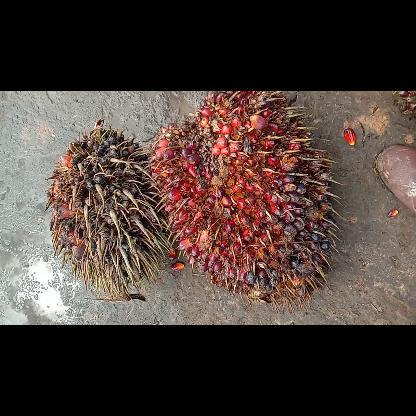TBS abnormal: (48, 120, 172, 304)
TBS masak: (140, 90, 340, 310)
